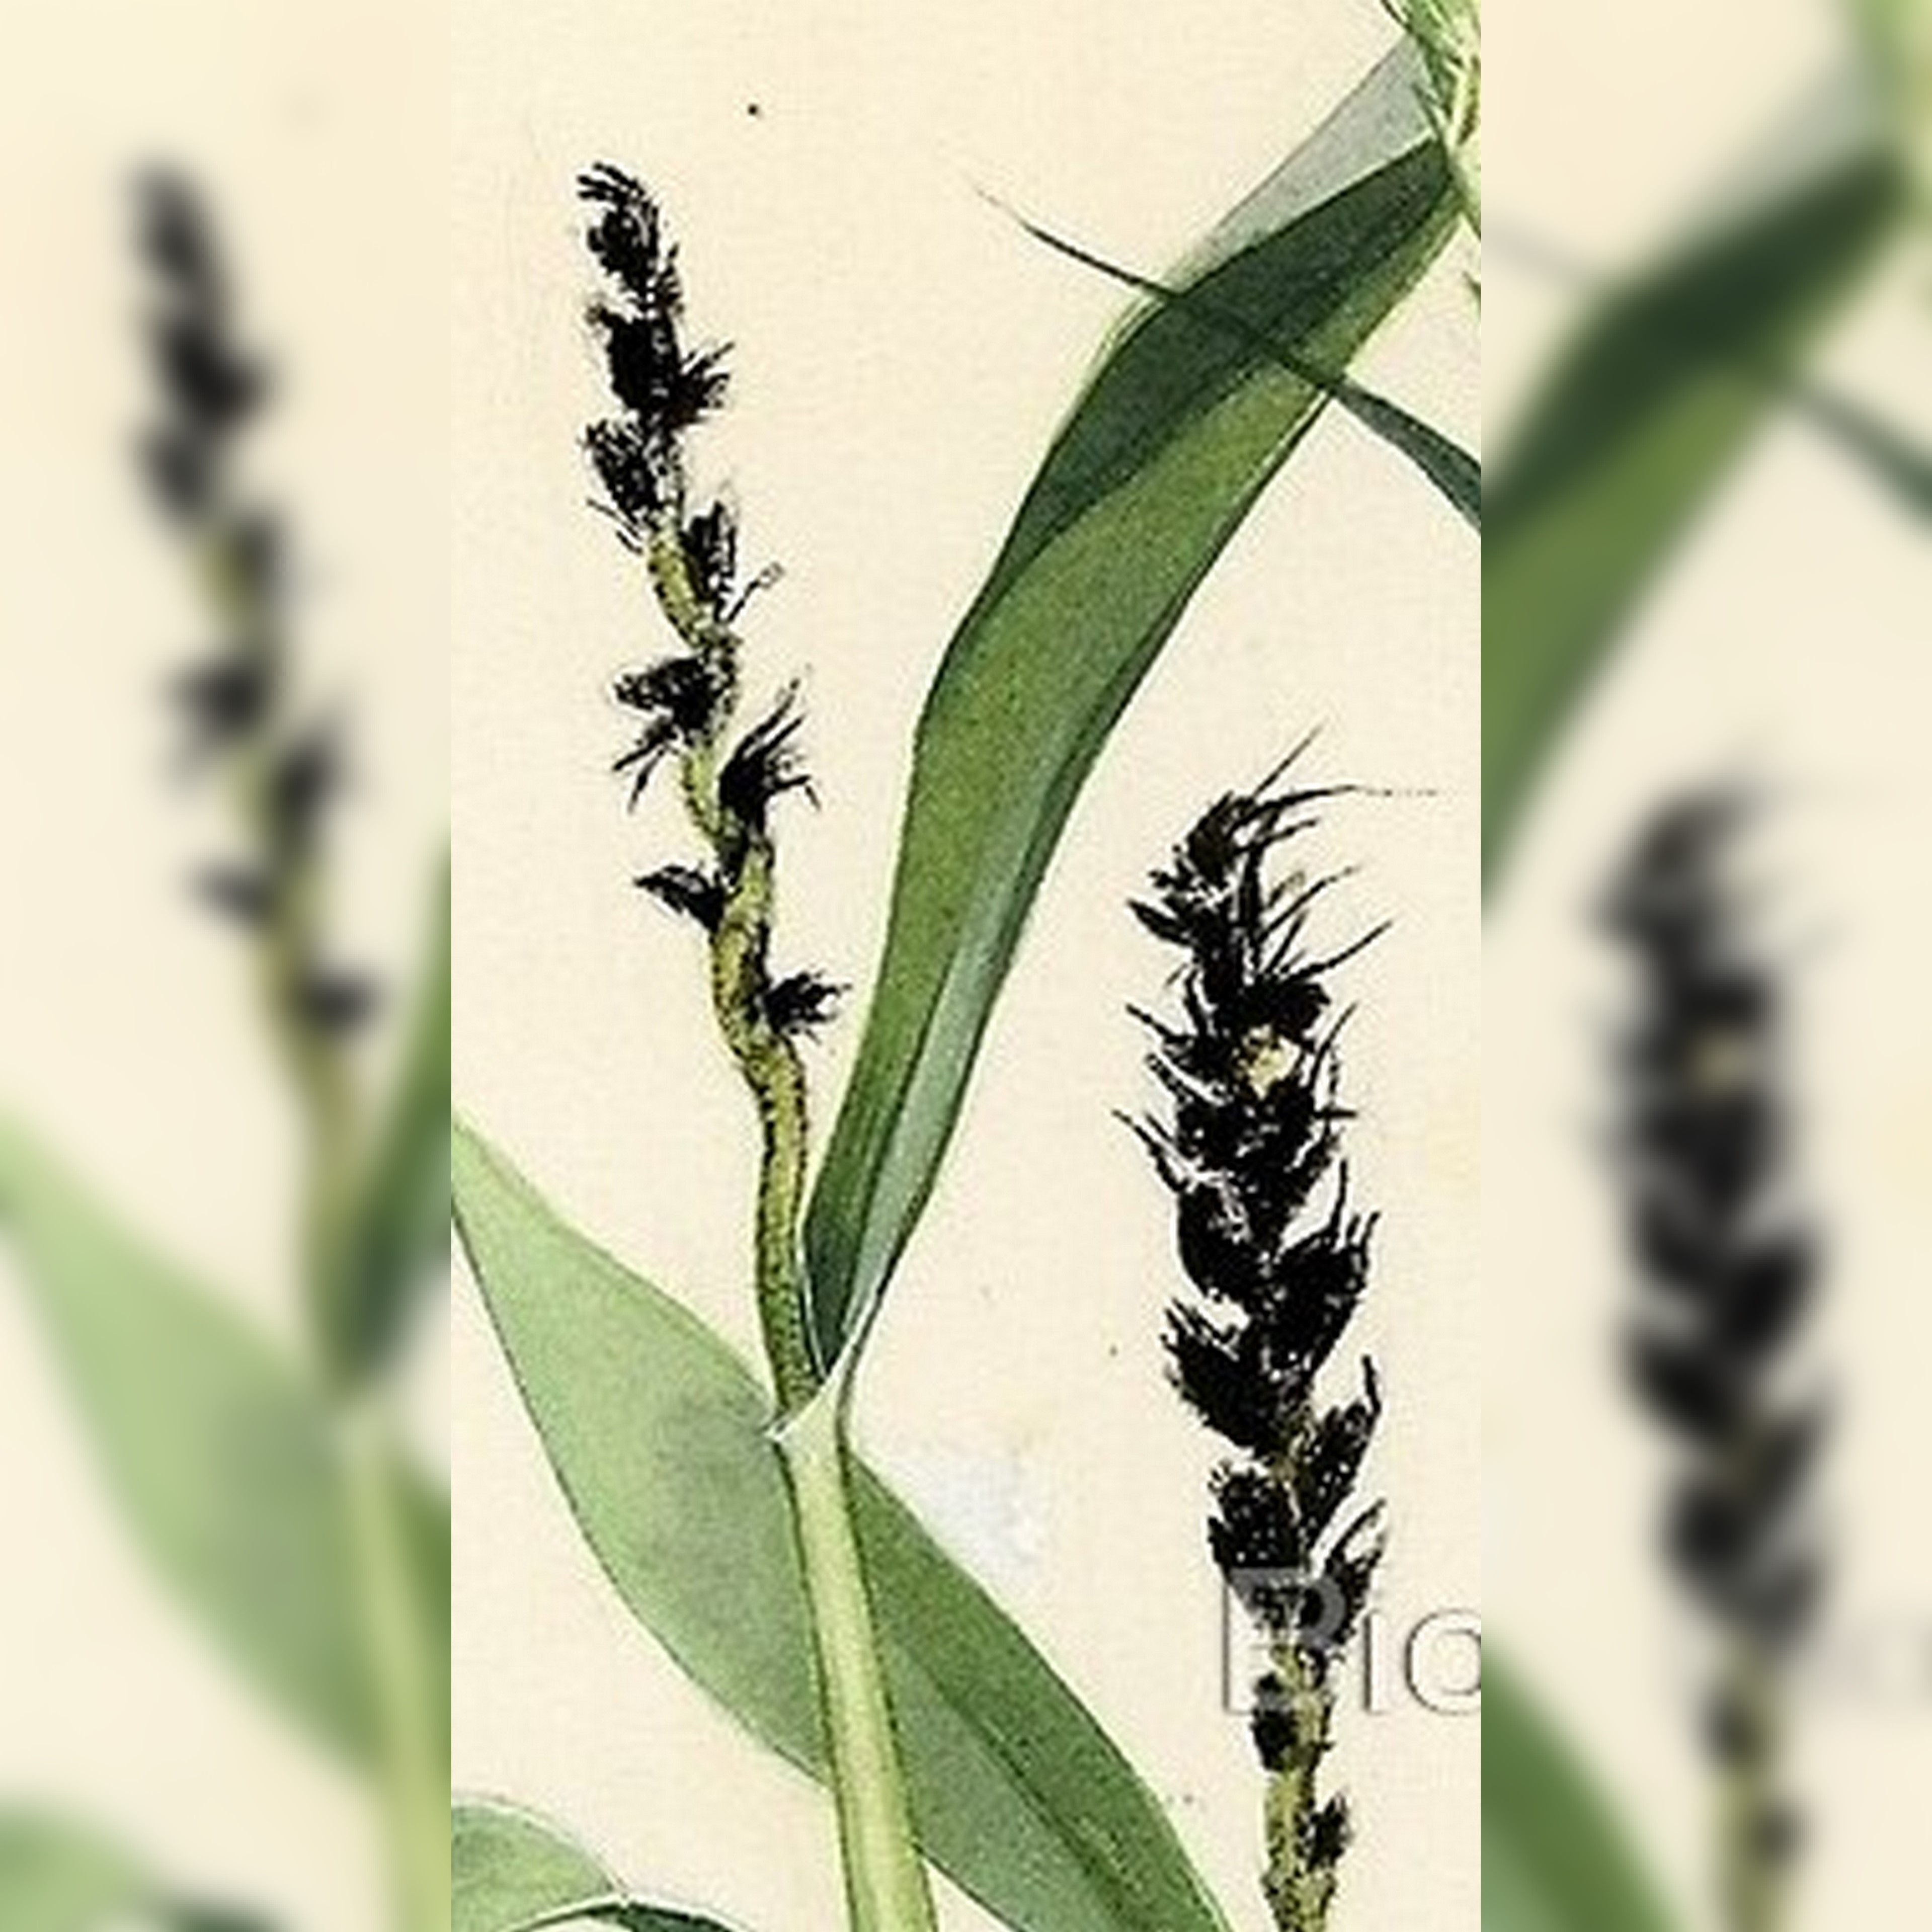Wheat Loose Smut: (1111, 782, 1435, 1599)
